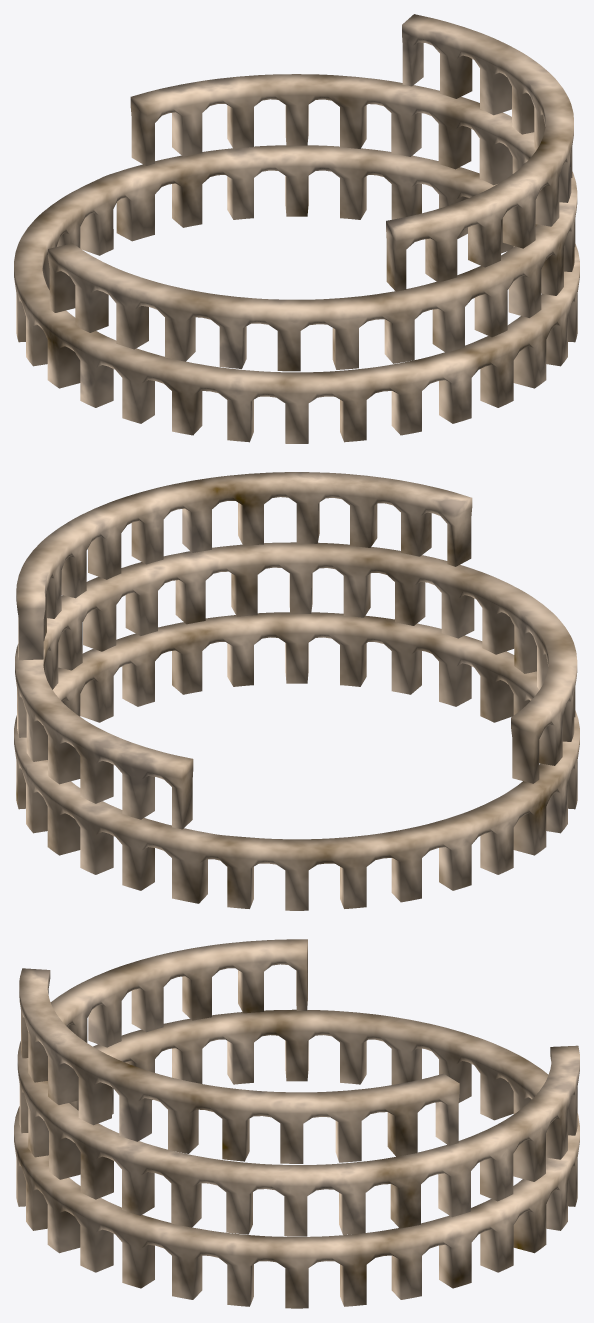
File: ColliseumWalls.obj
3 renders of one model, top to bottom at view 1: azimuth 30°, elevation 25°; view 2: azimuth 150°, elevation 25°; view 3: azimuth 270°, elevation 25°, orthographic.
Visible parts, largest first — view 1: Cube.005_Cube.008; view 2: Cube.005_Cube.008; view 3: Cube.005_Cube.008.
Part boxes in pixels (bbox=[...]): Cube.005_Cube.008: bbox=[14, 14, 579, 443]; Cube.005_Cube.008: bbox=[14, 472, 579, 910]; Cube.005_Cube.008: bbox=[14, 939, 579, 1308].
Size of the model in its own units: 83.96 by 33.23 by 83.96.
1 material, 1 textured.
